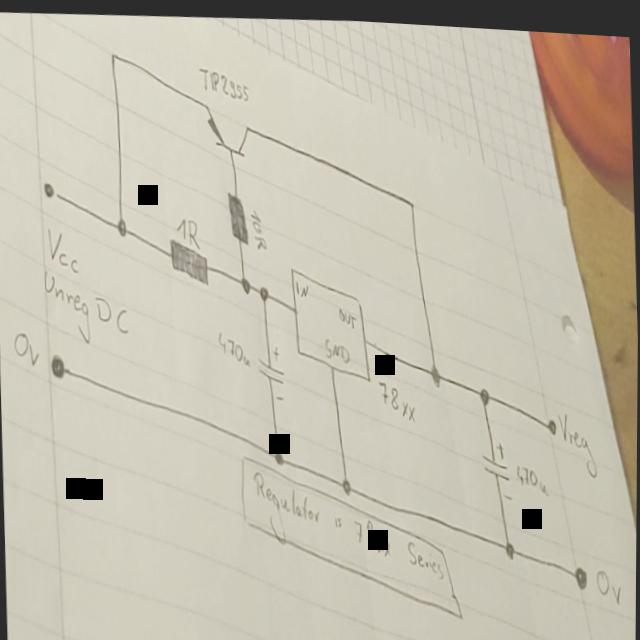capacitor: (479, 430, 513, 497), (255, 336, 285, 397)
junction: (475, 374, 490, 403), (427, 352, 441, 383), (114, 210, 127, 237), (501, 529, 515, 554), (339, 469, 350, 490), (238, 270, 249, 290), (257, 279, 268, 297), (272, 442, 282, 461), (406, 189, 416, 205), (108, 45, 117, 61)
resistor: (168, 231, 208, 284), (225, 184, 248, 242)
terminal: (48, 348, 67, 380), (573, 555, 588, 584), (40, 176, 56, 201), (544, 407, 557, 429)
text: (250, 456, 445, 584), (41, 262, 129, 345), (555, 398, 597, 471), (196, 59, 248, 99), (376, 371, 416, 420), (45, 221, 78, 274), (514, 452, 548, 490), (216, 325, 249, 364), (594, 558, 621, 598), (12, 326, 38, 366), (174, 211, 199, 247), (247, 201, 266, 247), (323, 329, 350, 359), (336, 298, 355, 326), (293, 273, 308, 293)
transistor: (204, 97, 250, 156)
